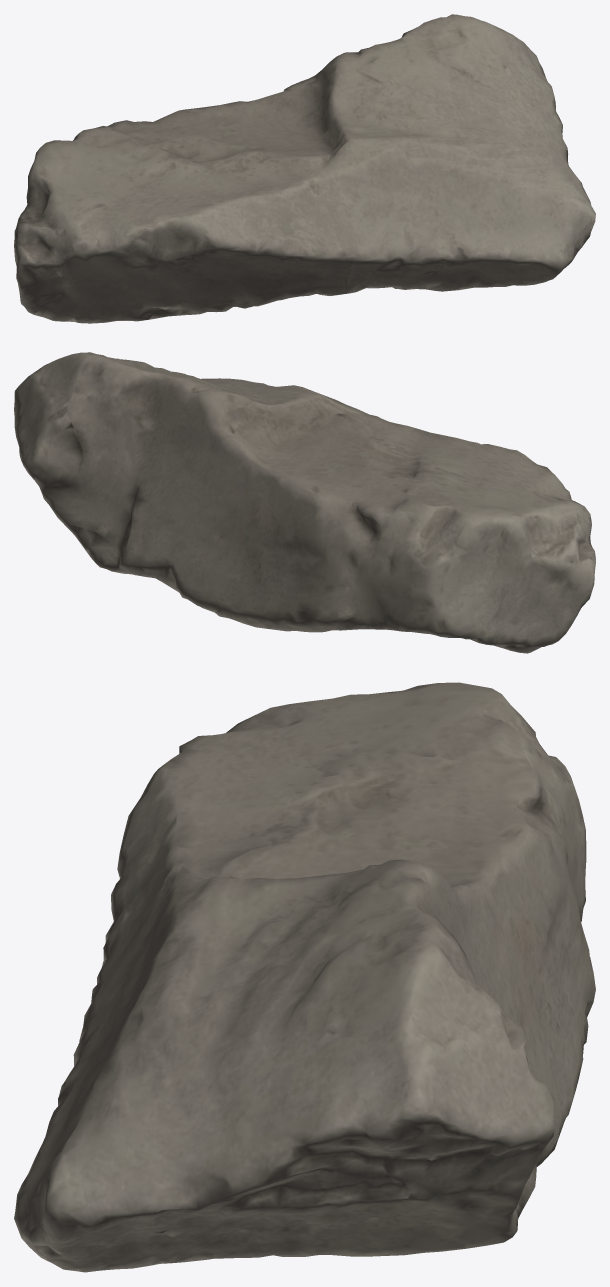
The model's file is moon_rock_01.glb.
The picture shows the model from 3 angles, top to bottom: view 1: azimuth 30°, elevation 25°; view 2: azimuth 150°, elevation 25°; view 3: azimuth 270°, elevation 25°; orthographic projection. The views are drawn at different scales.
Parts seen in each view (by area): view 1: lod0; view 2: lod0; view 3: lod0.
Boxes of the visible parts, x1,y1,x2,y2 form: lod0: (14, 14, 595, 323); lod0: (14, 352, 595, 653); lod0: (14, 682, 595, 1272).
Size of what is drawn, in the model's own units: 3.13 by 1.11 by 1.65.
1 material, 1 textured.
